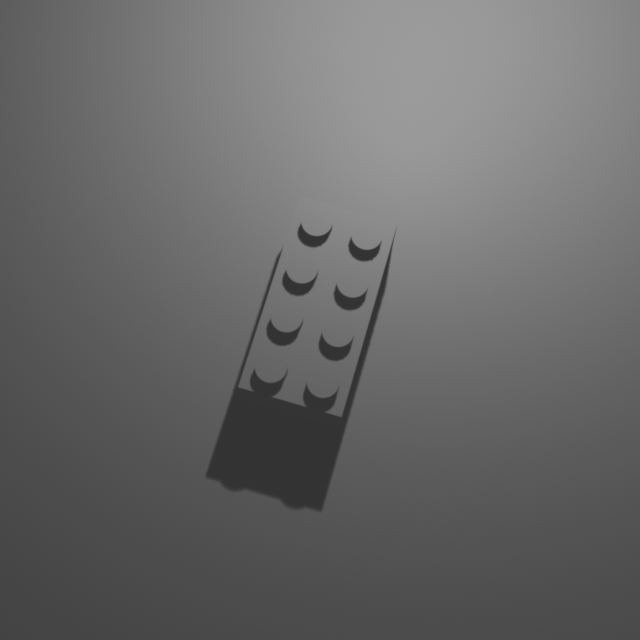lego_2x4: (237, 192, 399, 428)
